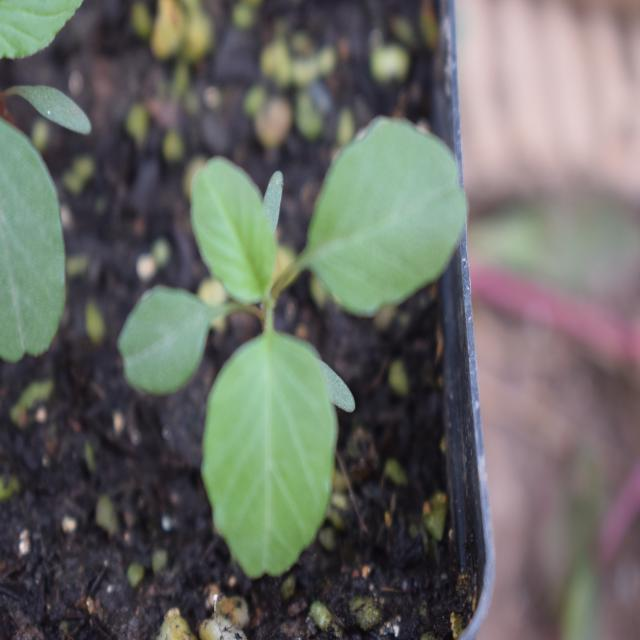pigweed: (108, 93, 457, 544)
